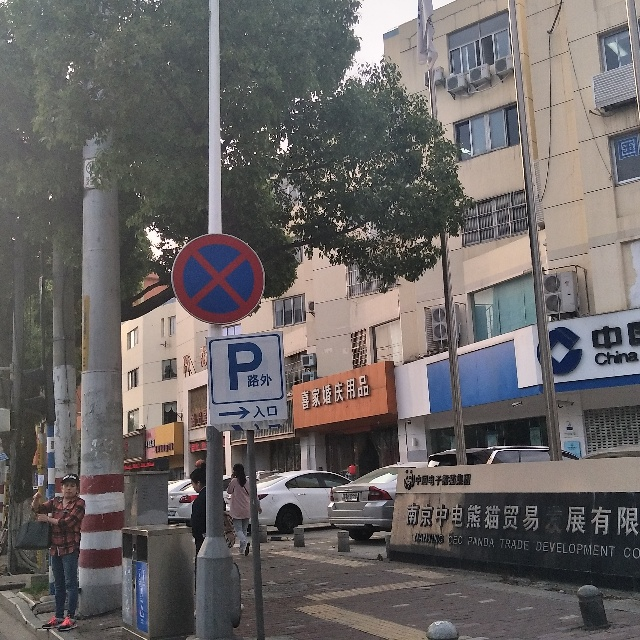stop: (184, 241, 250, 316)
